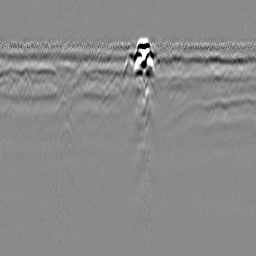cavity: (122, 55, 134, 78)
